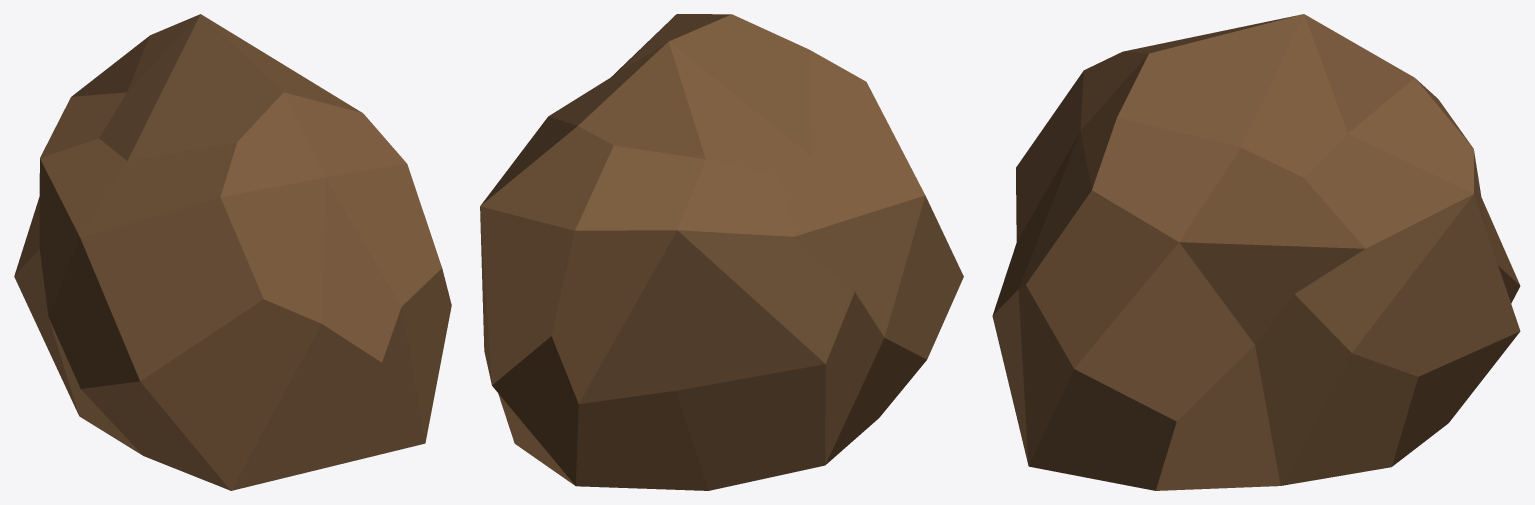
Rendered from Rock_16_Light_Brown.fbx.
3 views of the same model, side by side, from view 1: azimuth 30°, elevation 25°; view 2: azimuth 150°, elevation 25°; view 3: azimuth 270°, elevation 25° (orthographic). The views are drawn at different scales.
Parts seen in each view (by area): view 1: Rock_16_Light_Brown; view 2: Rock_16_Light_Brown; view 3: Rock_16_Light_Brown.
Part boxes in pixels (bbox=[...]): Rock_16_Light_Brown: bbox=[14, 14, 451, 490]; Rock_16_Light_Brown: bbox=[480, 14, 963, 490]; Rock_16_Light_Brown: bbox=[992, 14, 1520, 490].
Size of the model in its own units: 287 by 319 by 347.
